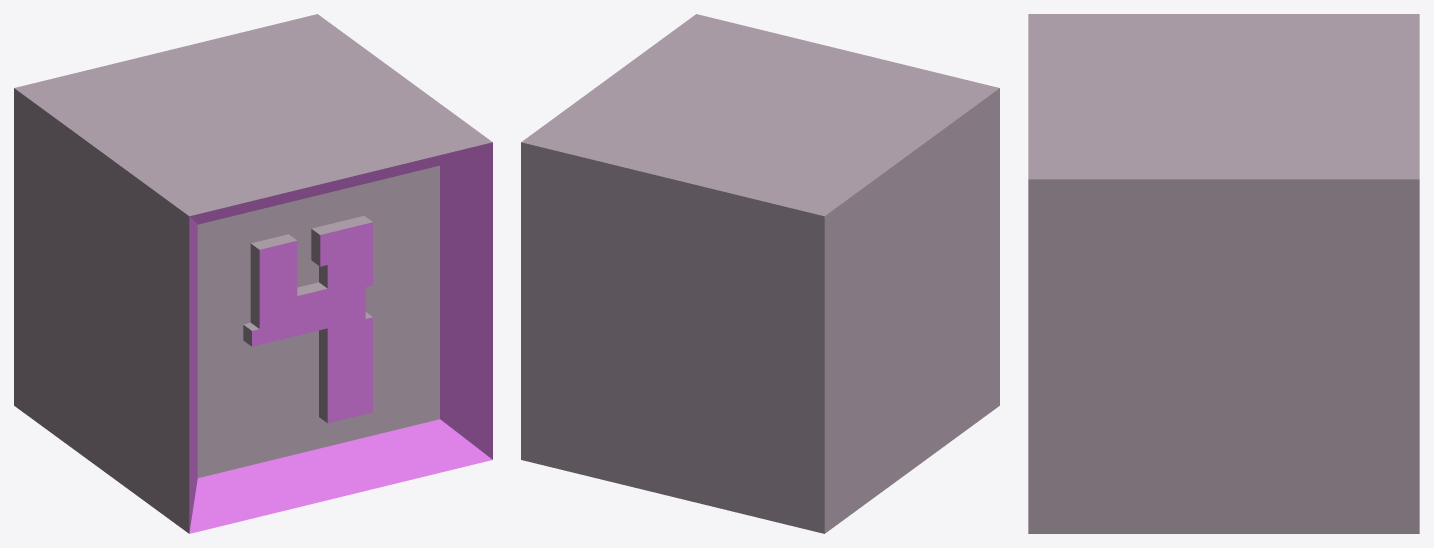
The model's file is Block4.fbx.
3 views of the same model, side by side, from view 1: azimuth 30°, elevation 25°; view 2: azimuth 150°, elevation 25°; view 3: azimuth 270°, elevation 25° (orthographic). The views are drawn at different scales.
Visible parts, largest first — view 1: Cube; view 2: Cube; view 3: Cube.
Part boxes in pixels (box(x1,y1,x2,y2)): Cube: box(14, 14, 492, 533); Cube: box(521, 14, 999, 533); Cube: box(1028, 14, 1419, 533).
Bounding box in the file's own units: 2000 × 2000 × 2000.
